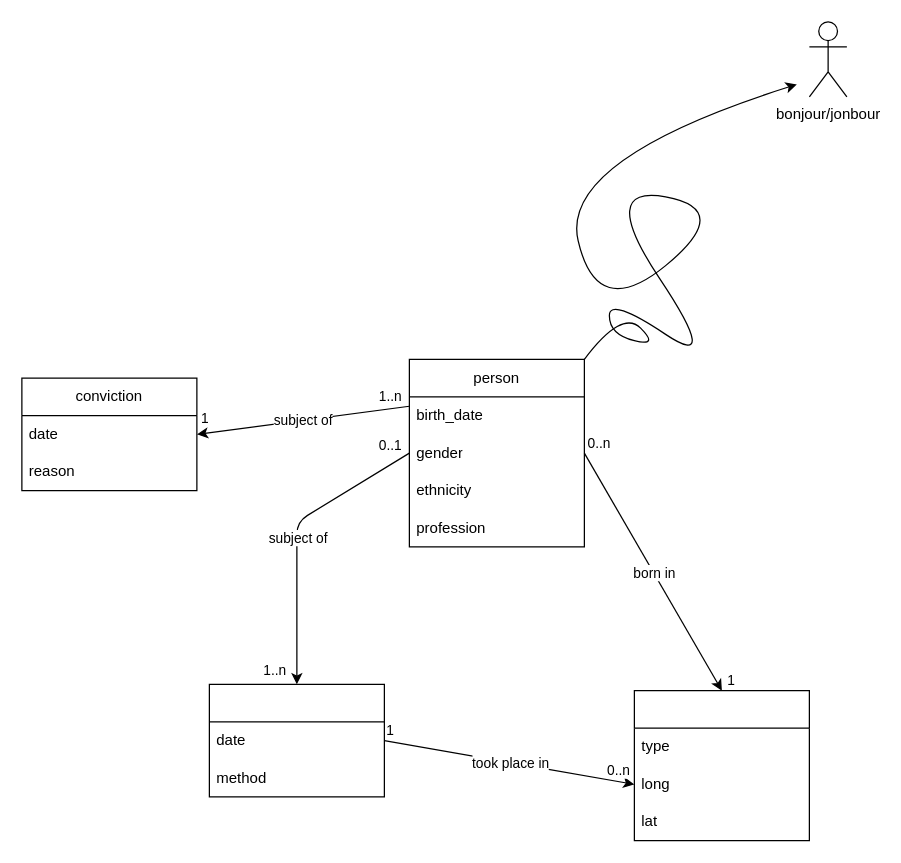
Image size: 901x863. Some labels were removed from this diagram. Each missing label, with the box of its shape:
execution: (208, 683, 384, 797)
geographical_place: (633, 689, 809, 841)
